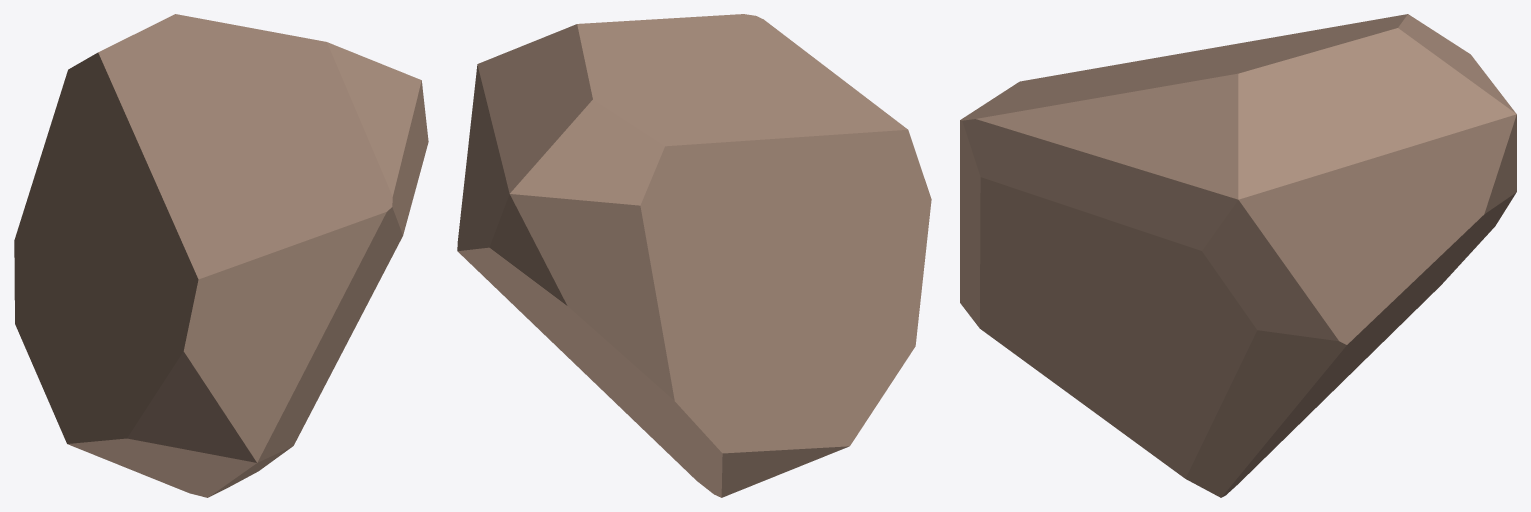
File: rock_11.fbx
3 renders of one model, left to right at view 1: azimuth 30°, elevation 25°; view 2: azimuth 150°, elevation 25°; view 3: azimuth 270°, elevation 25°, orthographic. The views are drawn at different scales.
Parts seen in each view (by area): view 1: rock_11; view 2: rock_11; view 3: rock_11.
Part boxes in pixels (box(x1,y1,x2,y2)): rock_11: box(14, 14, 428, 497); rock_11: box(457, 14, 931, 497); rock_11: box(960, 14, 1516, 497).
Size of the model in its own units: 48.87 by 55.3 by 56.54.
Materials: 1 (1 with a texture image).
